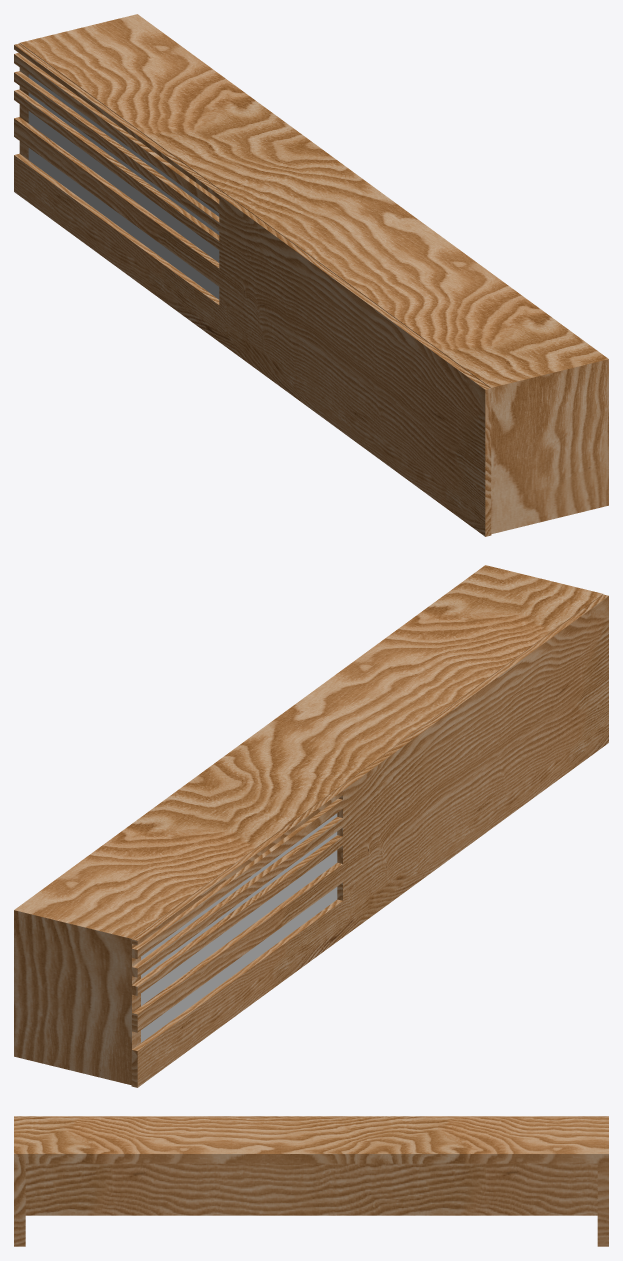
The model's file is SM_InfoTable.fbx.
3 renders of one model, top to bottom at view 1: azimuth 30°, elevation 25°; view 2: azimuth 150°, elevation 25°; view 3: azimuth 270°, elevation 25°, orthographic. The views are drawn at different scales.
Parts seen in each view (by area): view 1: SM_InfoTable_LOD0; view 2: SM_InfoTable_LOD0; view 3: SM_InfoTable_LOD0.
Part boxes in pixels (<box>): SM_InfoTable_LOD0: <box>14,14,608,536</box>; SM_InfoTable_LOD0: <box>14,565,608,1087</box>; SM_InfoTable_LOD0: <box>14,1116,608,1246</box>.
Bounding box in the file's own units: 106 × 700 × 121.
